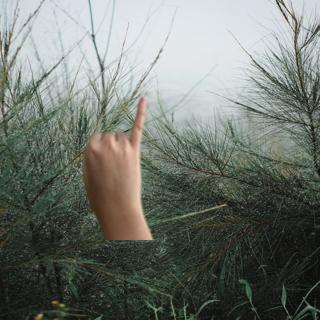Fine: (78, 97, 164, 246)
